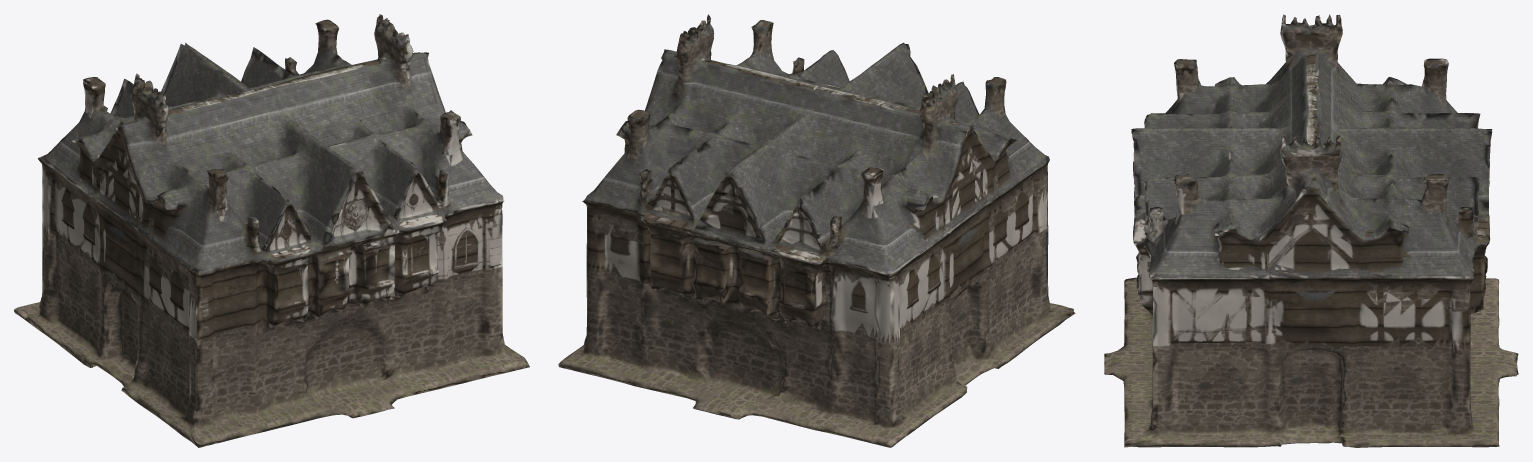
Rendered from house_tudor_corner.glb.
3 renders of one model, left to right at view 1: azimuth 30°, elevation 25°; view 2: azimuth 150°, elevation 25°; view 3: azimuth 270°, elevation 25°, orthographic.
Visible parts, largest first — view 1: house_tudor_corner; view 2: house_tudor_corner; view 3: house_tudor_corner.
Part boxes in pixels (x1,y1,x2,y2): house_tudor_corner: (14, 14, 529, 447); house_tudor_corner: (558, 14, 1075, 447); house_tudor_corner: (1104, 14, 1518, 447).
Size of the model in its own units: 10.95 by 9 by 11.62.
Materials: 1 (1 with a texture image).
